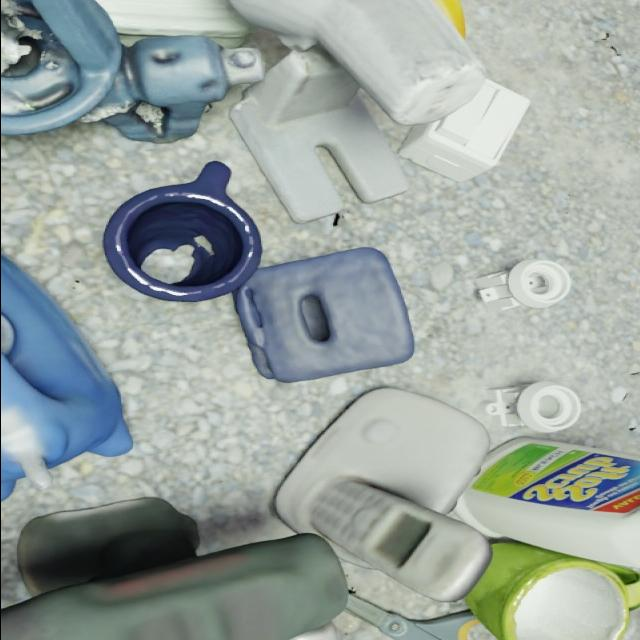Other Objects: (275, 388, 491, 601), (1, 536, 347, 640), (1, 1, 228, 142), (1, 257, 131, 501), (231, 1, 484, 125), (231, 47, 407, 223), (455, 438, 640, 570), (235, 248, 413, 383), (104, 162, 260, 302), (19, 500, 199, 596), (465, 542, 628, 640), (399, 80, 528, 181), (96, 1, 248, 47), (475, 260, 571, 310), (485, 383, 580, 433)
